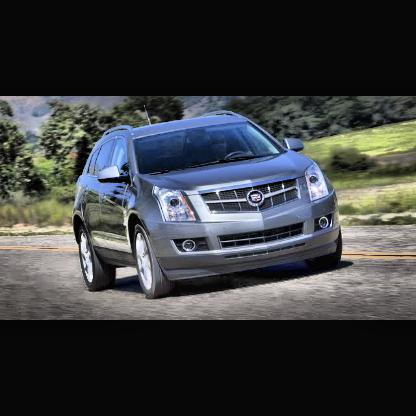Cadillac SRX SUV 2012: (73, 111, 343, 300)
